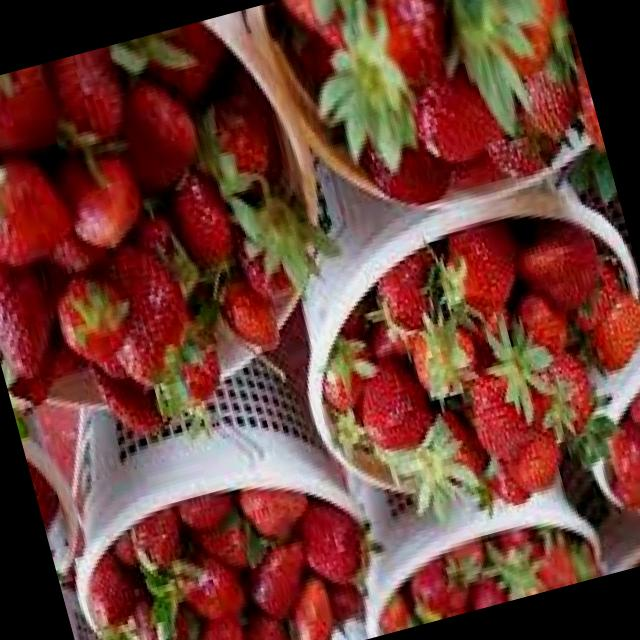Strawberry: (0, 5, 372, 475), (288, 193, 640, 554), (67, 460, 392, 640)
